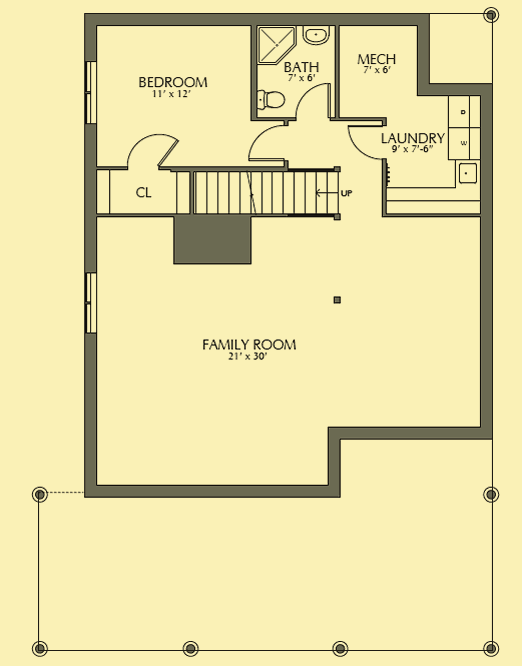door: (122, 132, 178, 168), (343, 122, 390, 163), (246, 124, 289, 164), (291, 82, 333, 122)
large_sink: (254, 85, 286, 112)
small_sink: (301, 24, 332, 46)
stairs: (190, 167, 349, 219)
window: (83, 58, 101, 126), (83, 271, 101, 335)
